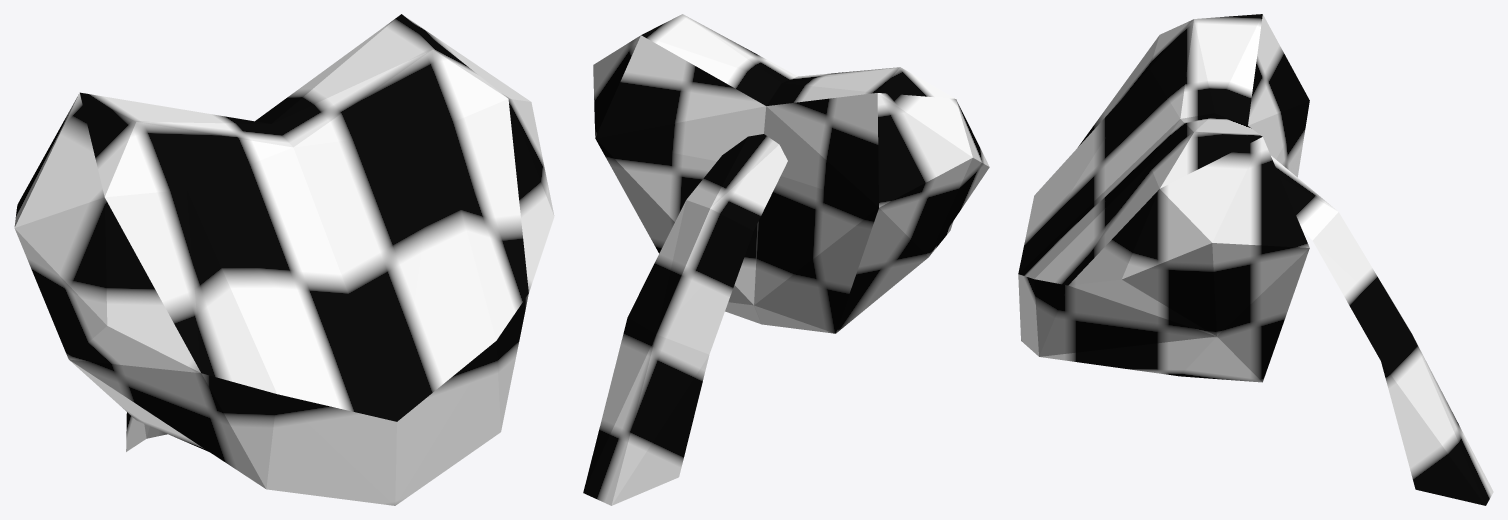
File: initarhl10.dae
3 renders of one model, left to right at view 1: azimuth 30°, elevation 25°; view 2: azimuth 150°, elevation 25°; view 3: azimuth 270°, elevation 25°, orthographic. The views are drawn at different scales.
Parts seen in each view (by area): view 1: armor; view 2: armor; view 3: armor.
Part boxes in pixels (x1,y1,x2,y2): armor: [14, 14, 554, 505]; armor: [583, 14, 989, 505]; armor: [1018, 14, 1493, 505].
Bounding box in the file's own units: 1.18 × 1.2 × 1.1.
1 material, 1 textured.
